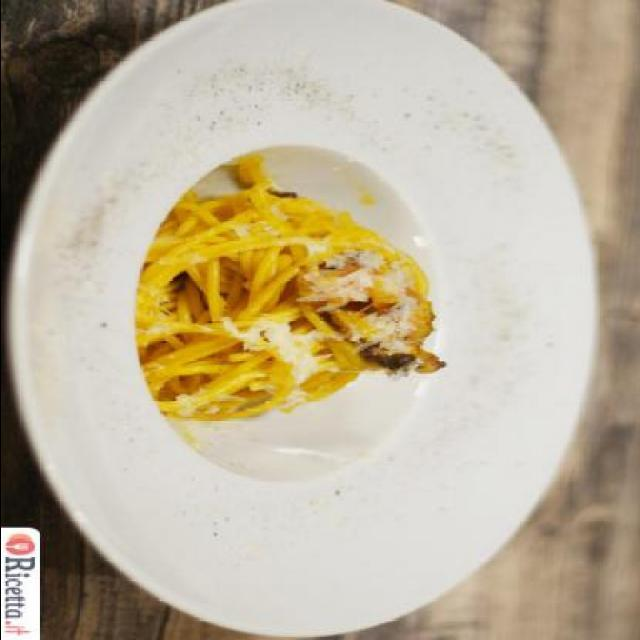Oil pasta: (87, 136, 490, 484)
